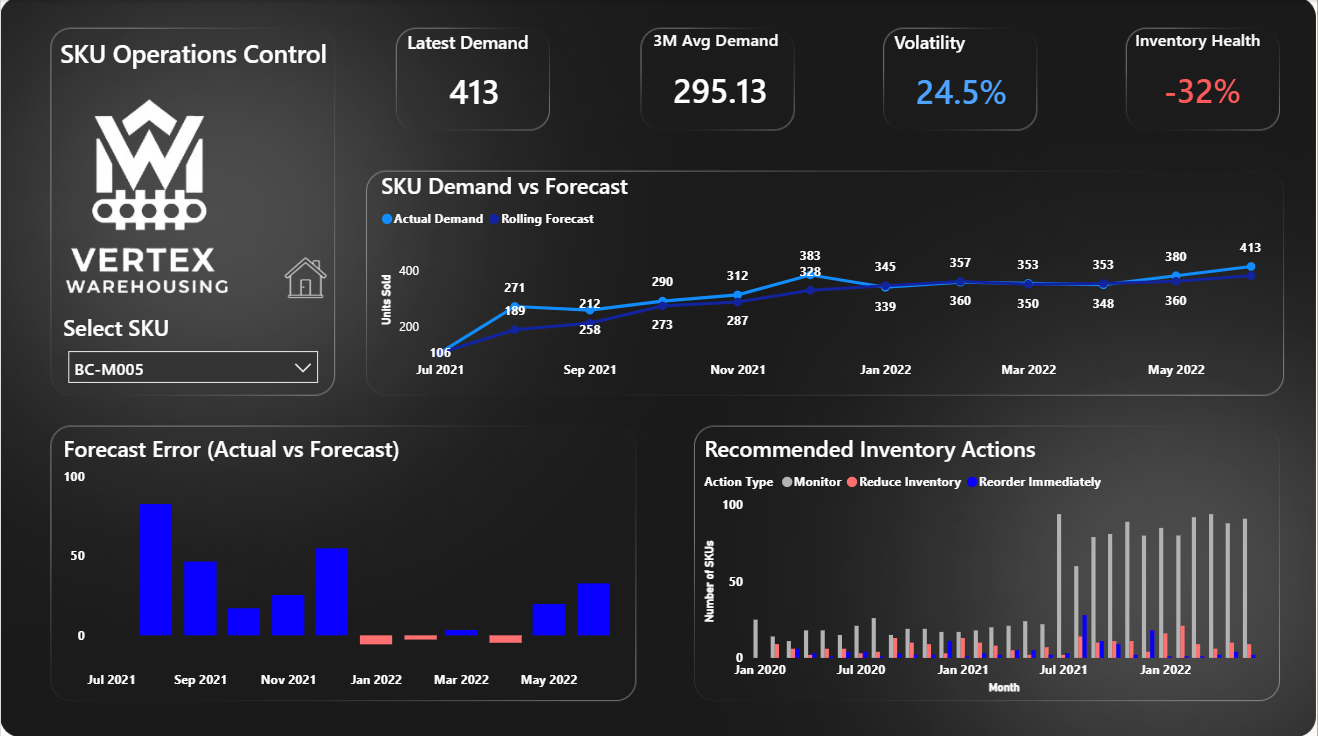

What the dashboard file says about the page in this screenshot:
{"tool":"powerbi","page":{"name":"SKU Actions & Risk","canvas":[1280,720],"ordinal":2},"visuals":[{"type":"card","title":"Latest Demand","fields":{"Values":["vw_warehouse_operations_monthly.Orders (Last 30 Days)"]},"box":[390,28.2,141,98.2],"z":0},{"type":"card","title":"3M Avg Demand","fields":{"Values":["Avg(vw_warehouse_operations_monthly.avg_3_month_demand)"]},"box":[629.3,28.2,141,98.2],"z":1000},{"type":"card","title":"Volatility","fields":{"Values":["vw_warehouse_operations_monthly.Demand Volatility %"]},"box":[863.7,28.2,141,98.2],"z":2000},{"type":"lineChart","title":"SKU Demand vs Forecast","fields":{"Category":["vw_warehouse_operations_monthly.sales_month"],"Y":["Sum(vw_warehouse_operations_monthly.total_units_sold)","Sum(vw_warehouse_operations_monthly.avg_3_month_demand)"]},"box":[364.7,165.3,884.1,212],"z":3000},{"type":"slicer","title":"Select SKU","fields":{"Values":["vw_warehouse_operations_monthly.product_sku"]},"box":[55.4,303.5,262.6,82.7],"z":4000},{"type":"columnChart","title":"Forecast Error (Actual vs Forecast)","fields":{"Category":["vw_warehouse_operations_monthly.sales_month"],"Y":["vw_warehouse_operations_monthly.Forecast Error"]},"box":[55.4,421.2,553.4,257.8],"z":5000},{"type":"clusteredColumnChart","title":"Recommended Inventory Actions","fields":{"Category":["vw_warehouse_operations_monthly.sales_month"],"Y":["CountNonNull(vw_warehouse_operations_monthly.recommended_action)"],"Series":["vw_warehouse_operations_monthly.recommended_action"]},"box":[678.9,421.2,565.1,257.8],"z":6000},{"type":"card","title":"Inventory Health","fields":{"Values":["vw_warehouse_operations_monthly.Inventory Health %"]},"box":[1098.1,28.2,141,98.2],"z":7000},{"type":"actionButton","box":[227.6,224.7,137.1,93.4],"z":8000},{"type":"image","box":[35,92.4,211.1,202.3],"z":9000},{"type":"textbox","title":"SKU Operations Control","box":[35,35,304.4,85.6],"z":9001}]}

Visuals, with their boxes in screenshot pixels (x1, y1, x2, y2), scaled from the page's 1280x720 canvas onto the 1318x736 screenshot:
"Latest Demand" card: 402:29:547:129
"3M Avg Demand" card: 648:29:793:129
"Volatility" card: 889:29:1035:129
"SKU Demand vs Forecast" lineChart: 376:169:1286:386
"Select SKU" slicer: 57:310:327:395
"Forecast Error (Actual vs Forecast)" columnChart: 57:431:627:694
"Recommended Inventory Actions" clusteredColumnChart: 699:431:1281:694
"Inventory Health" card: 1131:29:1276:129
actionButton: 234:230:376:325
image: 36:94:253:301
"SKU Operations Control" textbox: 36:36:349:123
